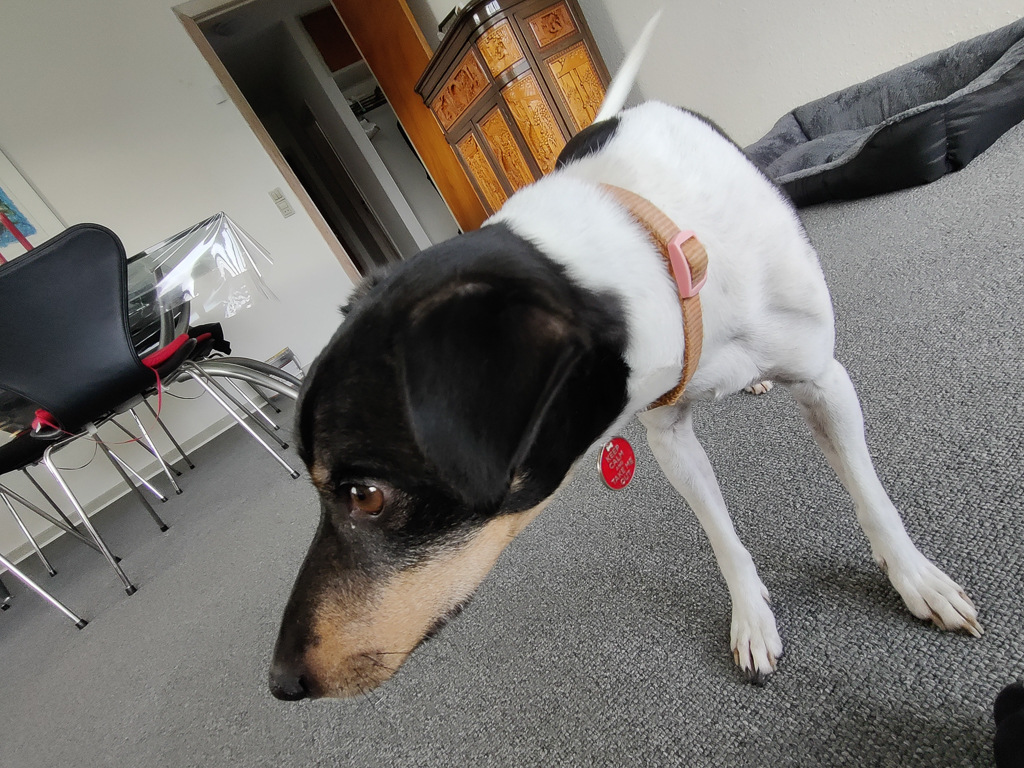Dog: (969, 654, 1024, 768)
Humanoid: (236, 0, 1003, 727)
